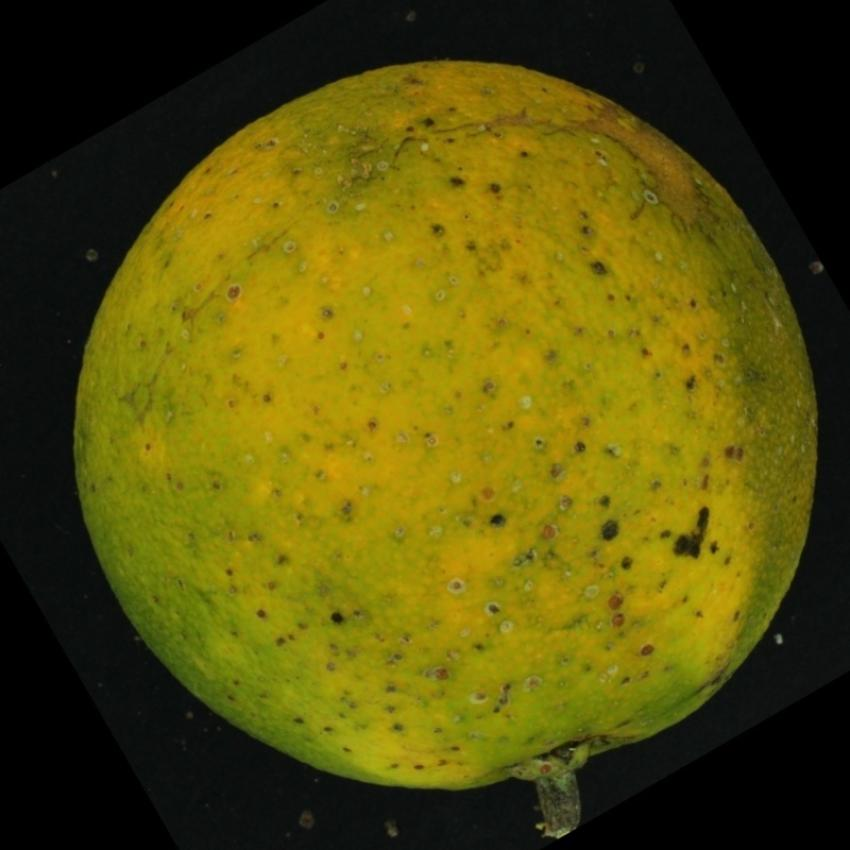Mal estado: (66, 43, 827, 798)
